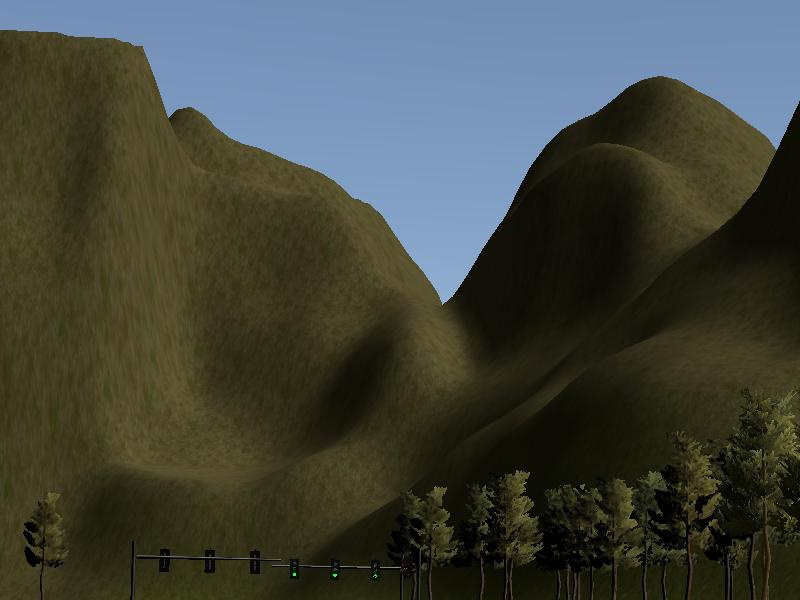Green: (331, 560, 340, 580)
